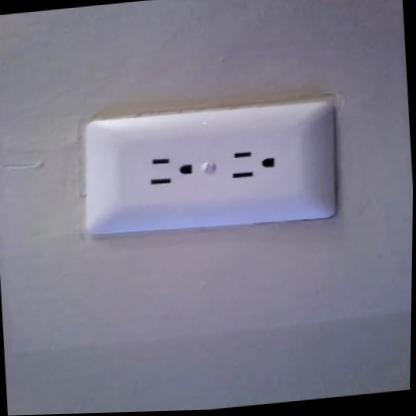OUTLET: (80, 93, 341, 242)
